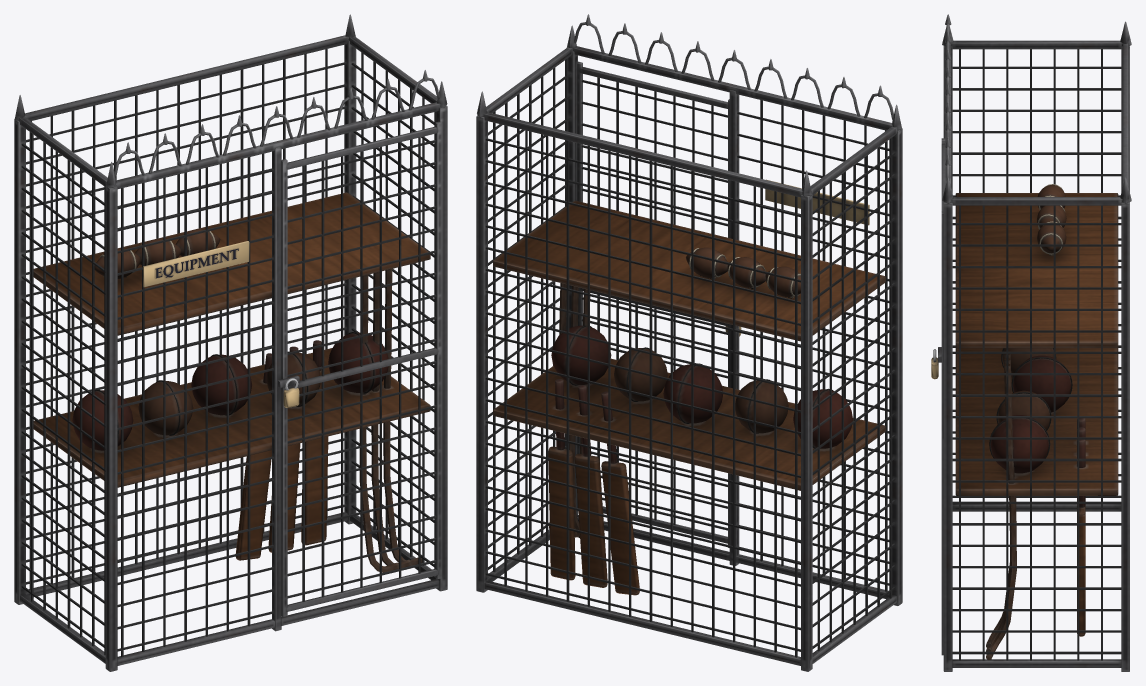
The model's file is EquipmentCage.fbx.
3 renders of one model, left to right at view 1: azimuth 30°, elevation 25°; view 2: azimuth 150°, elevation 25°; view 3: azimuth 270°, elevation 25°, orthographic. The views are drawn at different scales.
Parts seen in each view (by area): view 1: EquipmentCage; view 2: EquipmentCage; view 3: EquipmentCage.
Boxes of the visible parts, x1,y1,x2,y2 form: EquipmentCage: (14, 14, 447, 671); EquipmentCage: (476, 14, 902, 671); EquipmentCage: (931, 14, 1131, 671).
Bounding box in the file's own units: 517 × 758 × 271.
